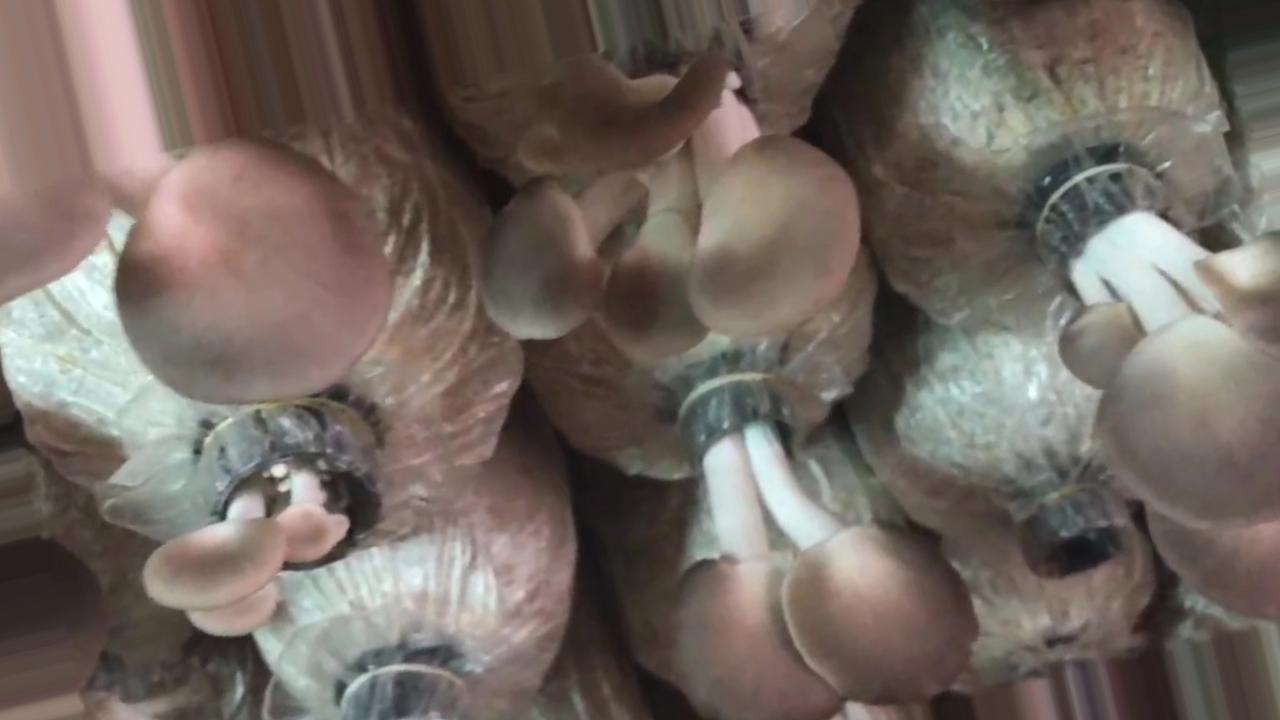nam: (482, 60, 859, 356), (675, 374, 980, 720), (1, 139, 393, 406), (1056, 167, 1280, 614), (145, 406, 384, 635)
